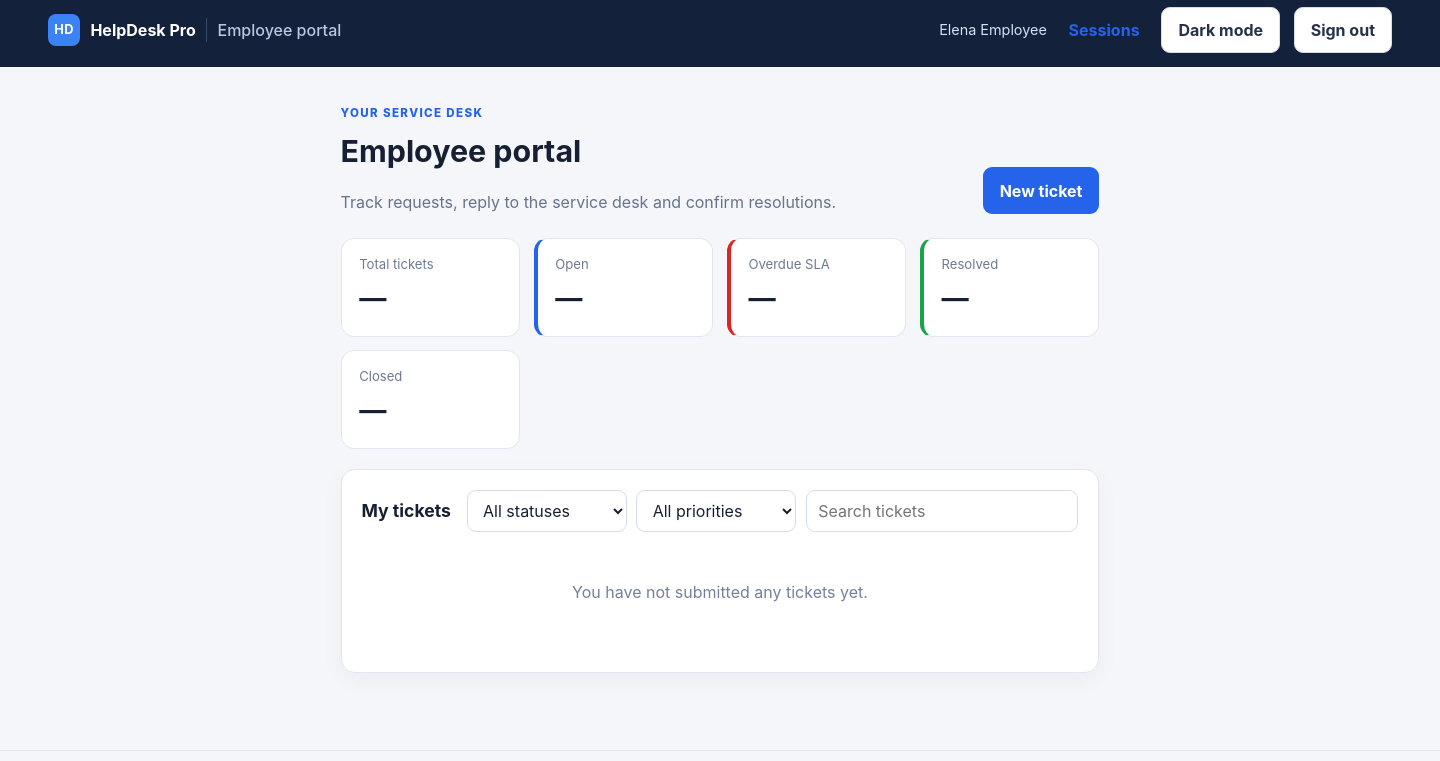
Test: employee portal › reloads an unfiltered queue after submitting a ticket
expect the heading "Employee portal" is shown: met, box [340,133,581,169]
Select "Resolved" in the 1st dropdown named "Filter by status" at (547, 511), box [467,490,627,532]
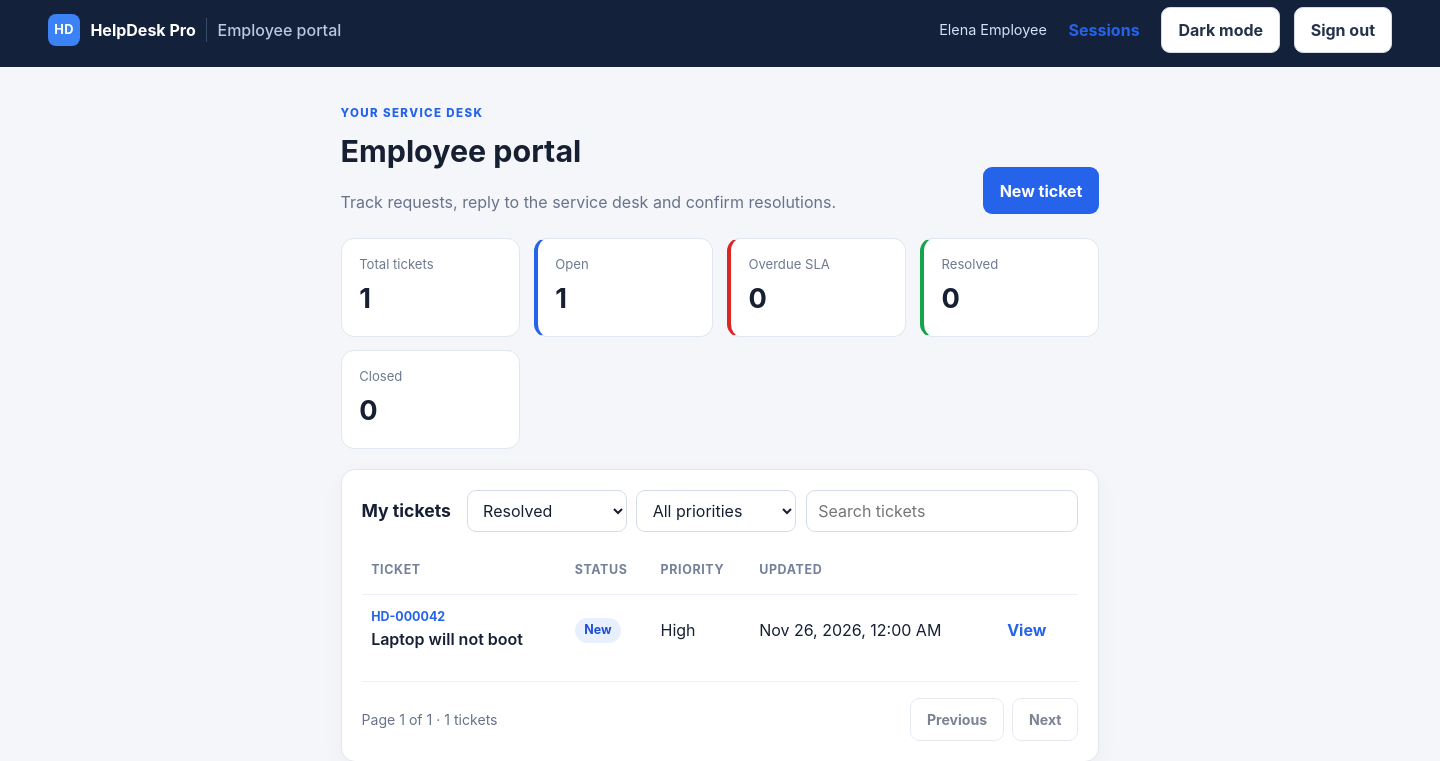
Click the button "New ticket".
click(1041, 191)  # box [983,167,1099,214]
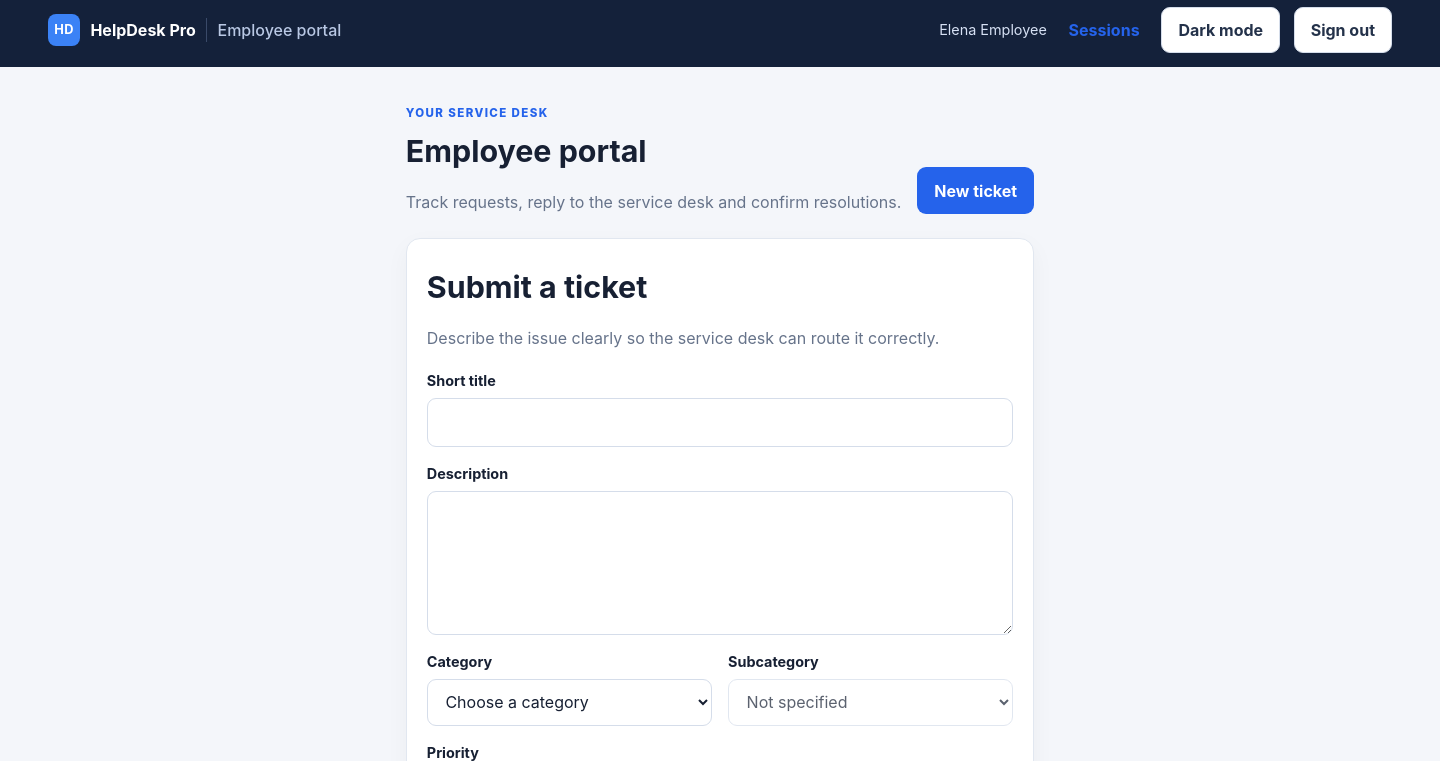
Type "New issue title" into the field labelled "Short title".
click(720, 423); type("New issue title")  # box [427,398,1013,447]
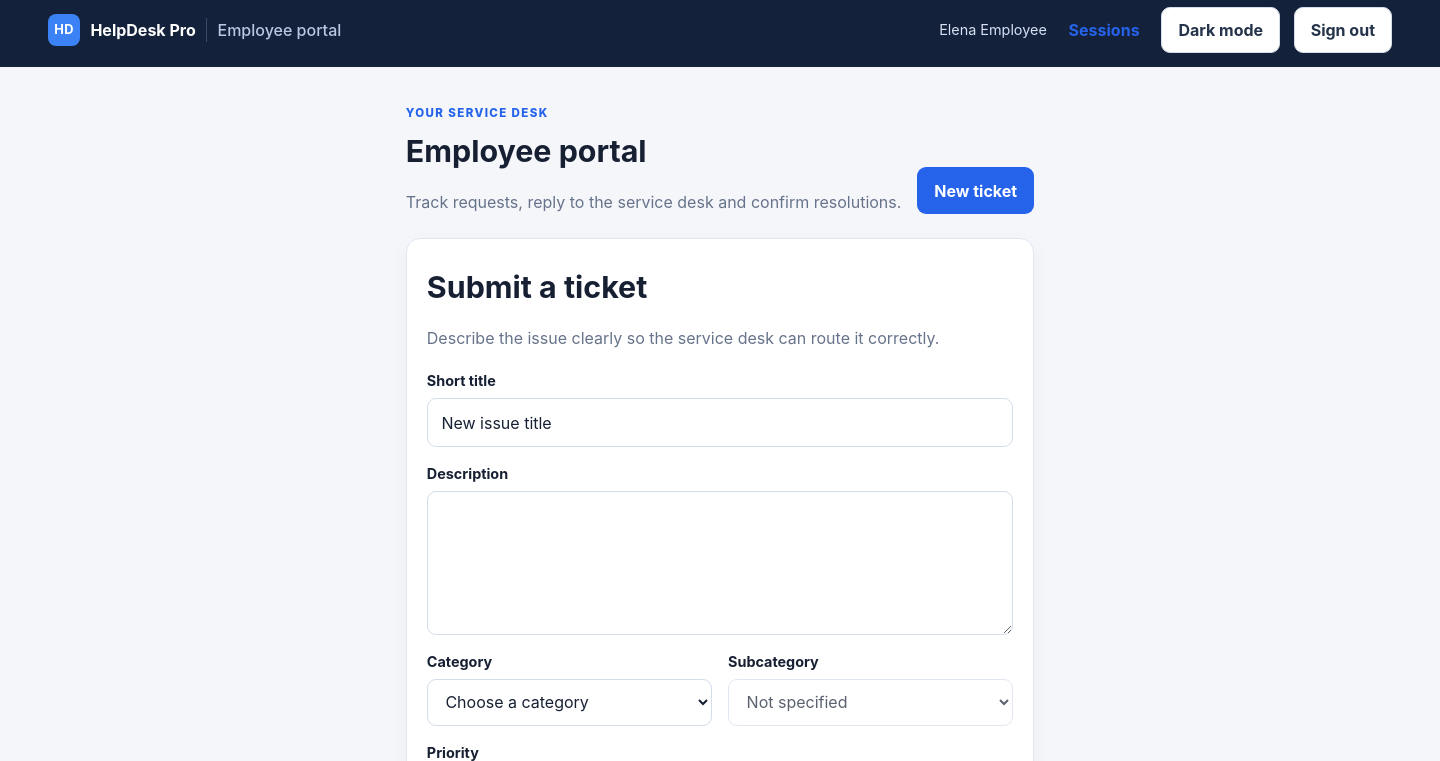
Type "A detailed enough description." into the text box labelled "Description".
click(720, 563); type("A detailed enough description.")  # box [427,491,1013,635]
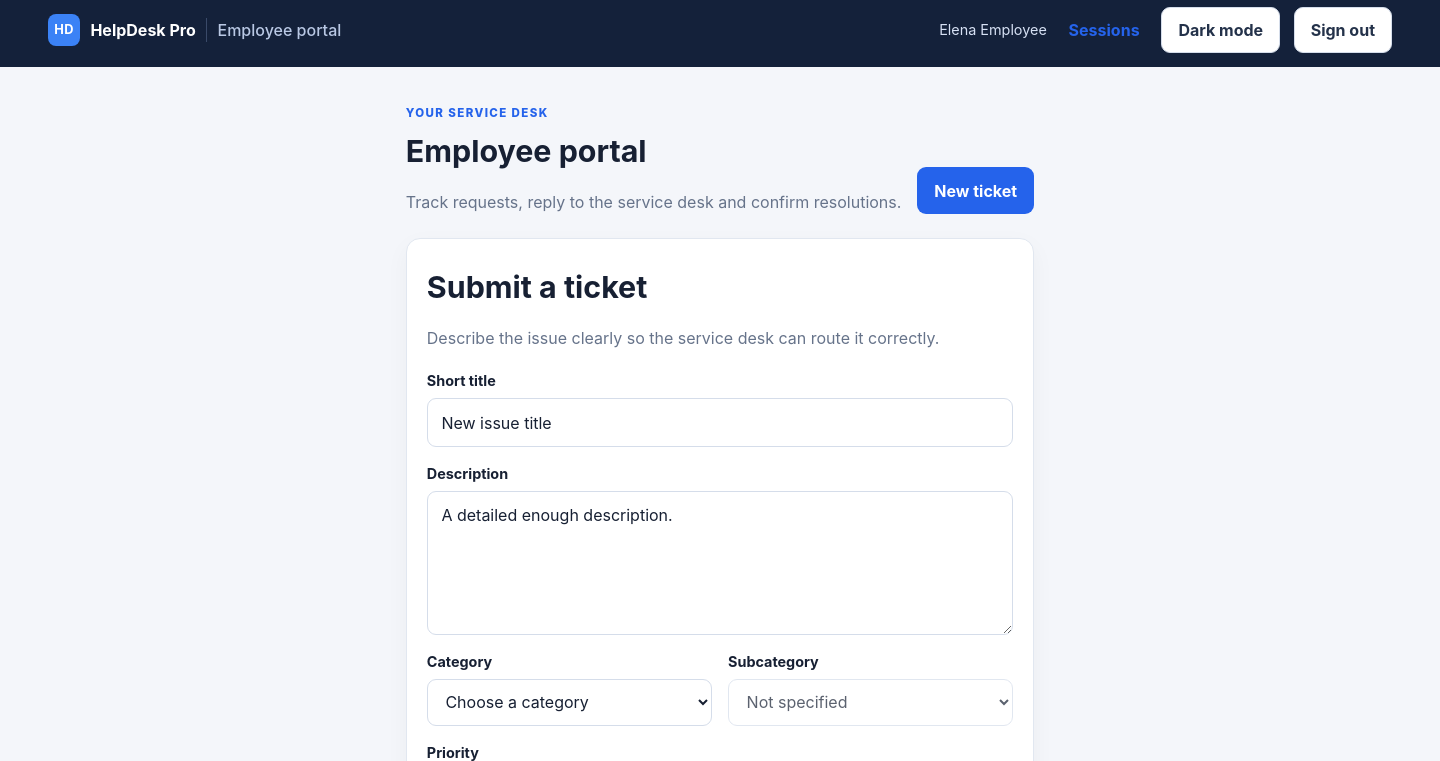
Select "Hardware" in the dropdown labelled "Category" at (569, 702), box [427,679,712,726]
(page scrolled)
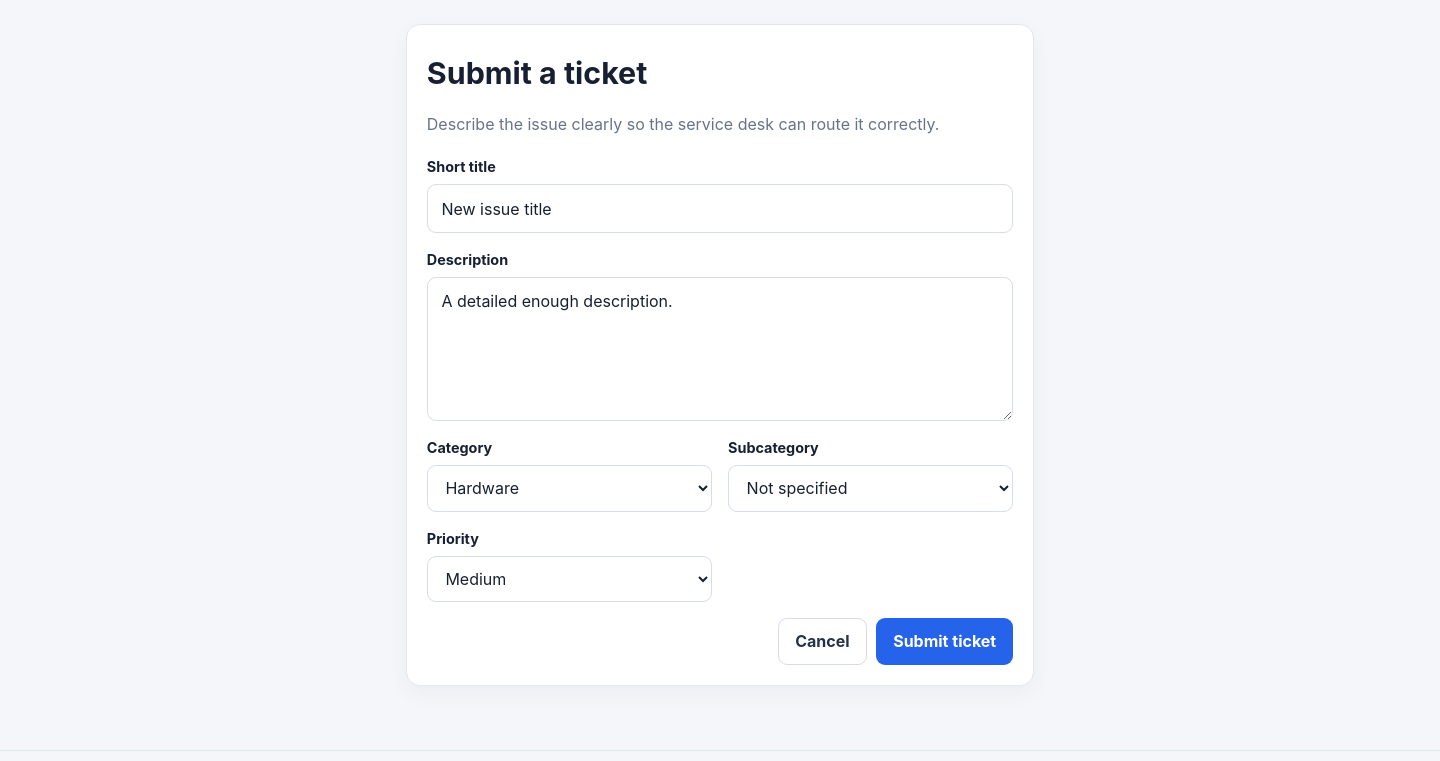
Click the button "Submit ticket".
click(945, 641)  # box [876,618,1013,665]
(page scrolled)
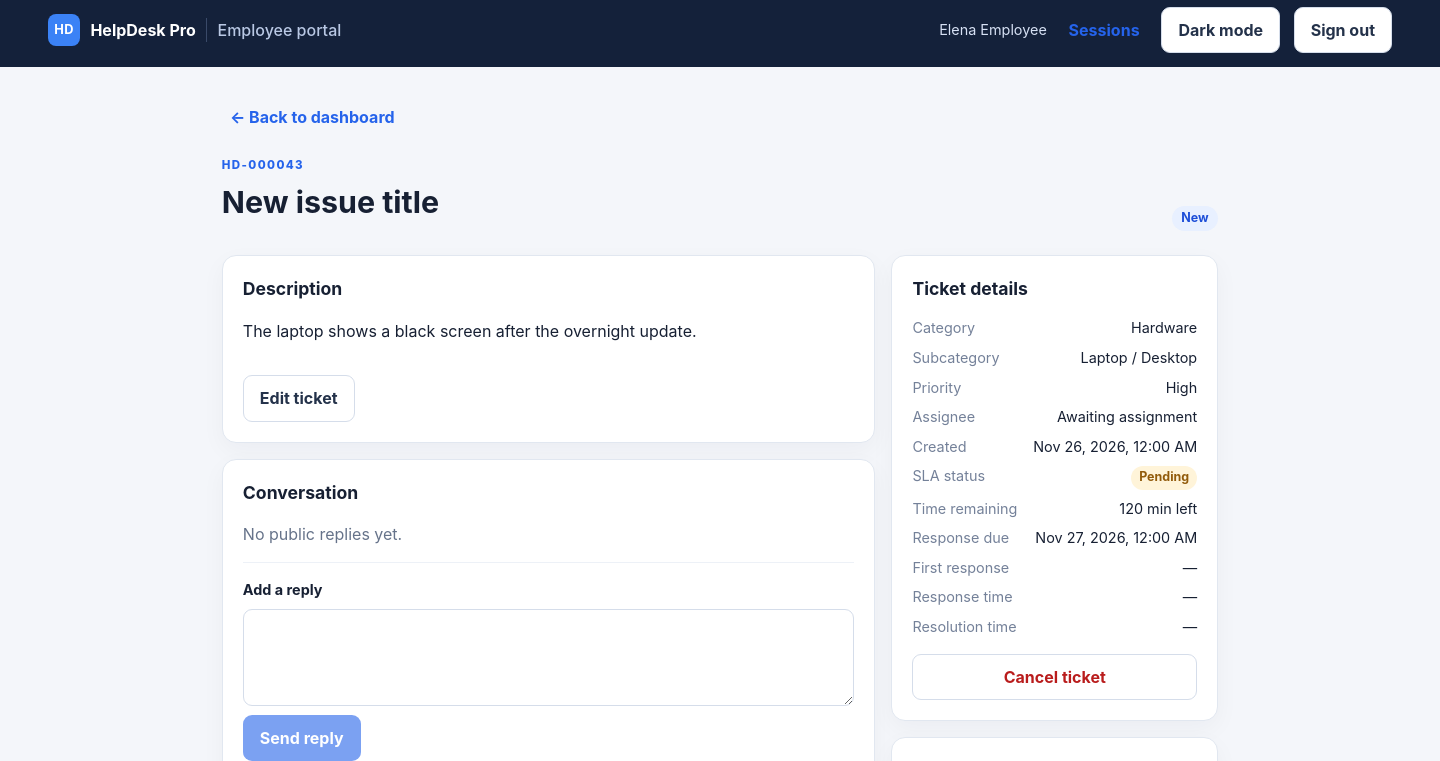
expect the text "HD-000043" is shown: met, box [222,157,304,174]
